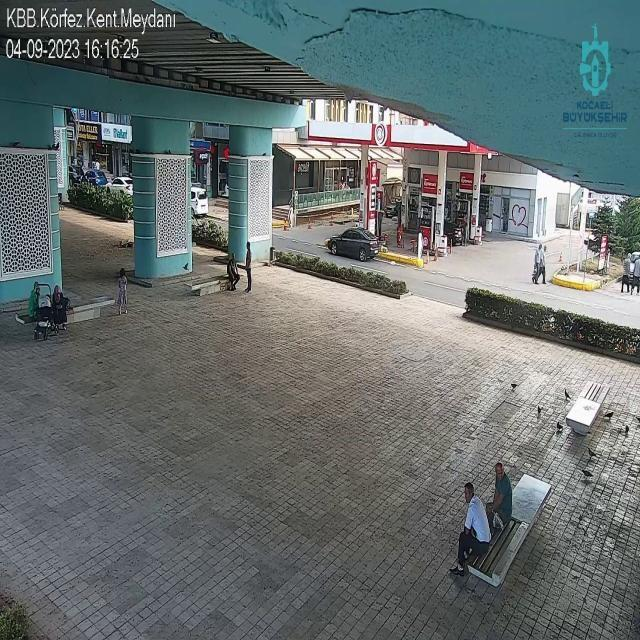Car: (325, 226, 379, 262), (107, 176, 133, 196), (80, 170, 108, 188), (70, 164, 84, 184)
Van: (191, 187, 211, 218)
